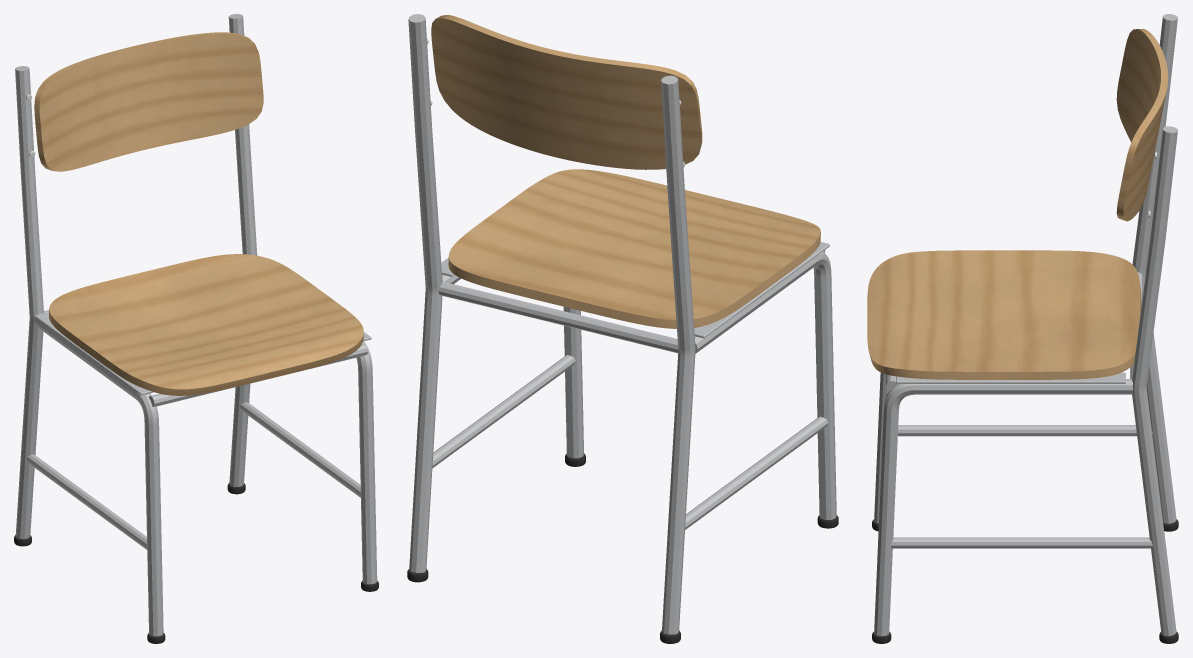
Rendered from student_chair.glb.
The picture shows the model from 3 angles, left to right: view 1: azimuth 30°, elevation 25°; view 2: azimuth 150°, elevation 25°; view 3: azimuth 270°, elevation 25°; orthographic projection. The views are drawn at different scales.
Visible parts, largest first — view 1: student_chair; view 2: student_chair; view 3: student_chair.
Boxes of the visible parts, left/top/right/bottom form: student_chair: left=14, top=14, right=378, bottom=643; student_chair: left=407, top=14, right=838, bottom=643; student_chair: left=867, top=14, right=1178, bottom=643.
Bounding box in the file's own units: 0.4018 × 0.7861 × 0.4335.
4 materials, 1 textured.
